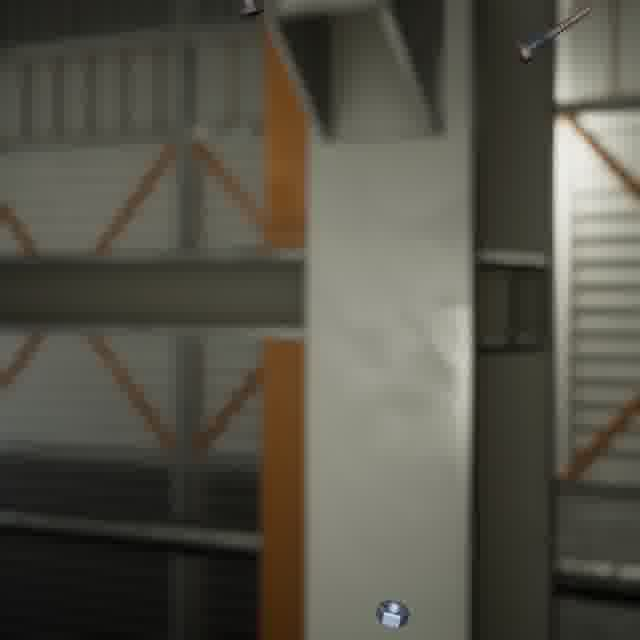bolt: (509, 1, 599, 68), (234, 0, 268, 22)
nut: (371, 595, 414, 632)
